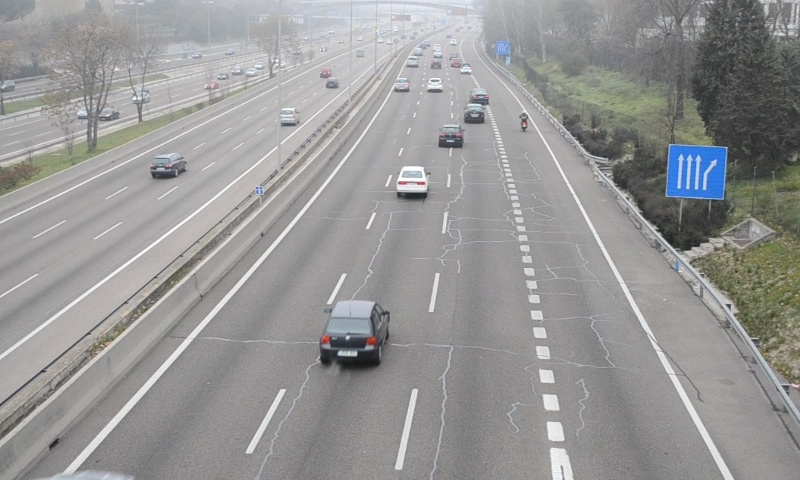car: (321, 300, 389, 362), (396, 165, 429, 194), (438, 124, 464, 148), (464, 103, 485, 124), (470, 87, 490, 104), (426, 76, 444, 92), (393, 77, 410, 92)
motorcycle: (518, 110, 530, 133)
